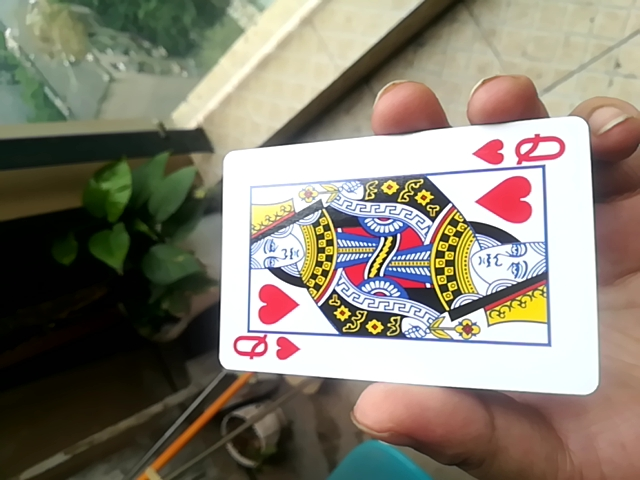hx q: (214, 111, 604, 399)
